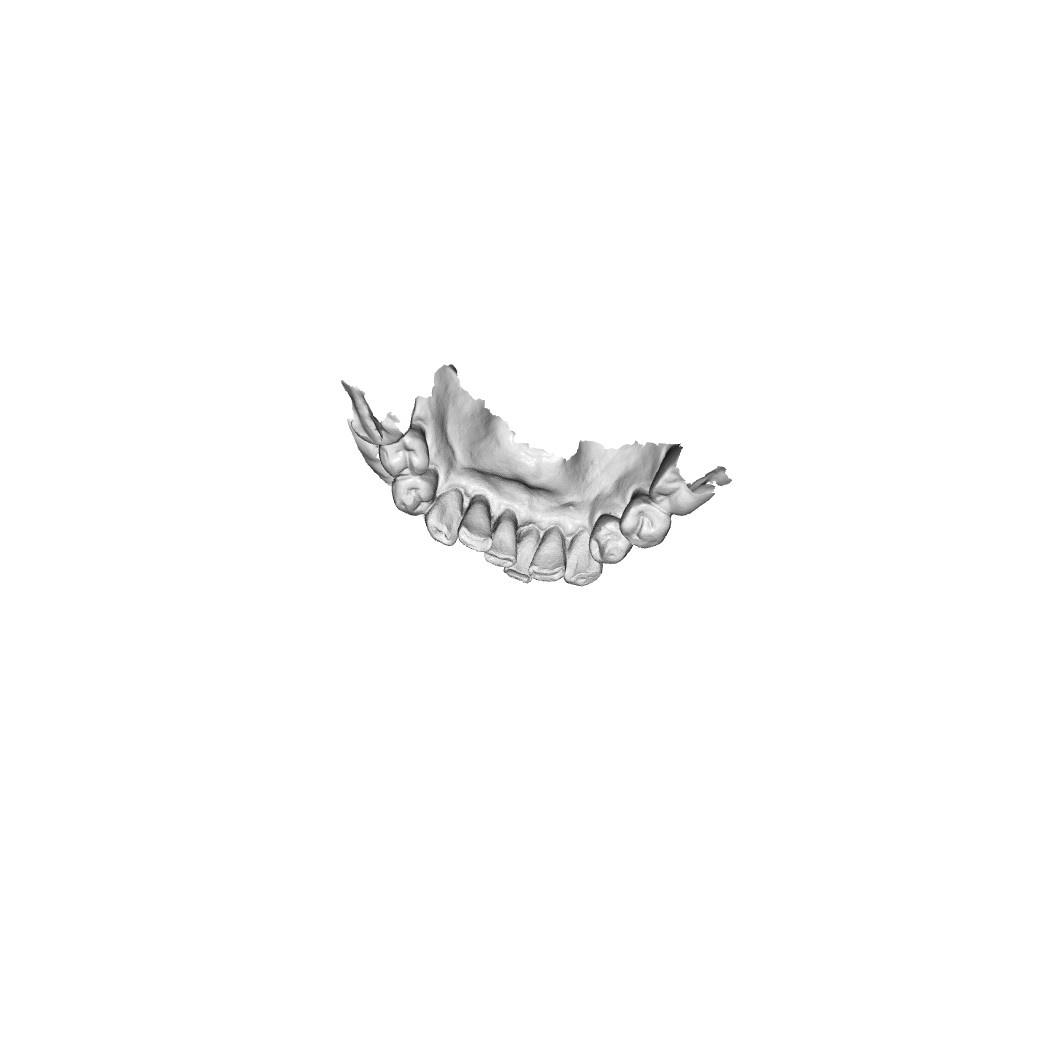canine: (425, 489, 468, 546), (569, 533, 601, 588)
incisor: (456, 502, 497, 553), (483, 514, 519, 567), (504, 530, 539, 584), (532, 536, 568, 582)
premolar: (587, 512, 635, 565), (380, 429, 429, 478), (625, 497, 668, 547), (394, 470, 437, 515)
